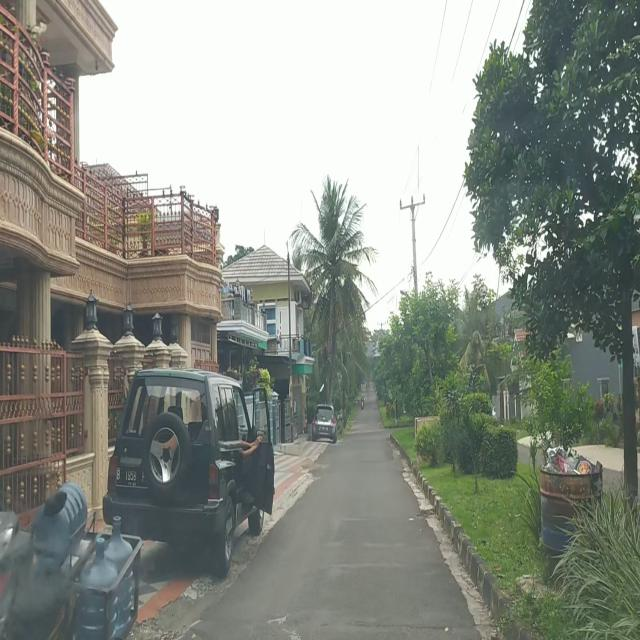Sewer Cover: (346, 619, 454, 632)
